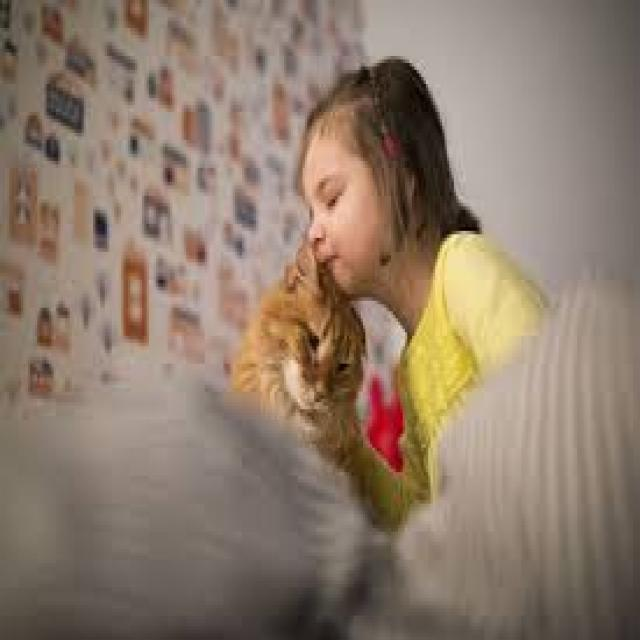Cat: (228, 238, 370, 472)
